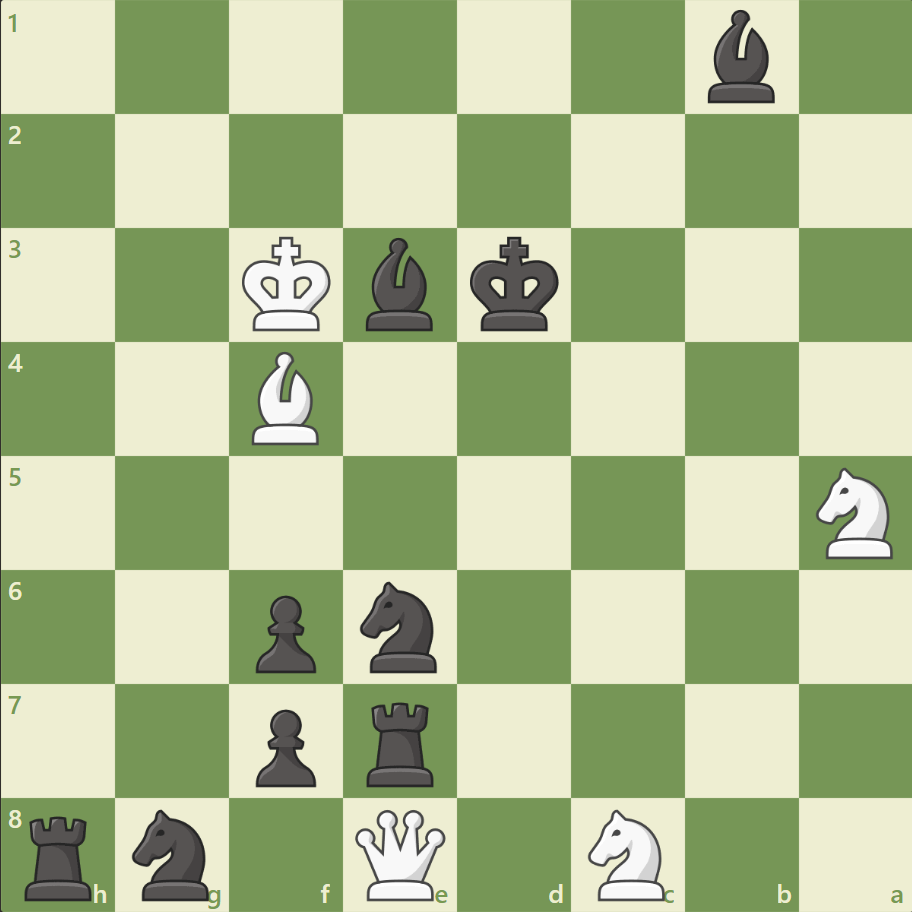B: (244, 347, 328, 449)
K: (238, 231, 338, 339)
N: (806, 461, 903, 564), (579, 802, 676, 904)
Q: (351, 804, 450, 903)
b: (358, 233, 442, 336), (698, 6, 782, 109)
k: (465, 231, 565, 339)
n: (124, 802, 222, 904), (351, 575, 449, 677)
p: (247, 700, 322, 791), (247, 586, 322, 677)
r: (19, 806, 102, 904), (360, 693, 442, 790)
